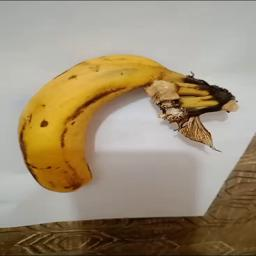Banana Semifresh: (15, 44, 238, 191)
